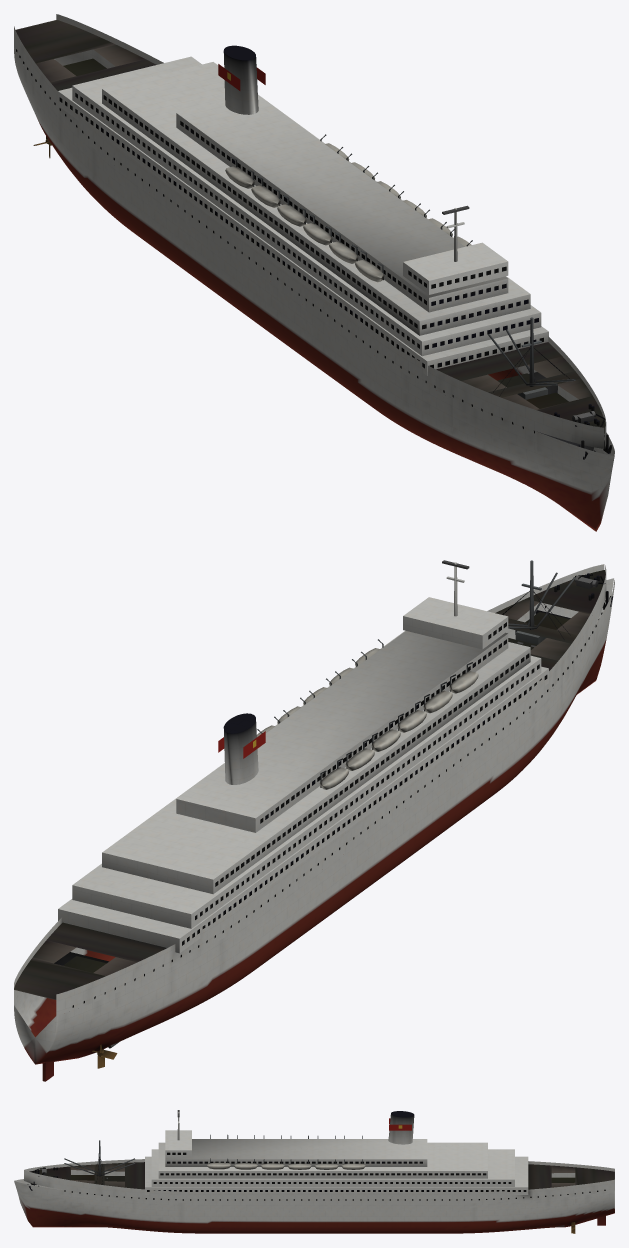
The model's file is model_built.glb.
3 renders of one model, top to bottom at view 1: azimuth 30°, elevation 25°; view 2: azimuth 150°, elevation 25°; view 3: azimuth 270°, elevation 25°, orthographic. The views are drawn at different scales.
Visible parts, largest first — view 1: main; view 2: main; view 3: main.
Part boxes in pixels (x1,y1,x2,y2): main: (14,14,614,531); main: (14,560,614,1081); main: (14,1110,614,1233).
Size of the model in its own units: 23.72 by 37.6 by 179.
Materials: 1 (1 with a texture image).
